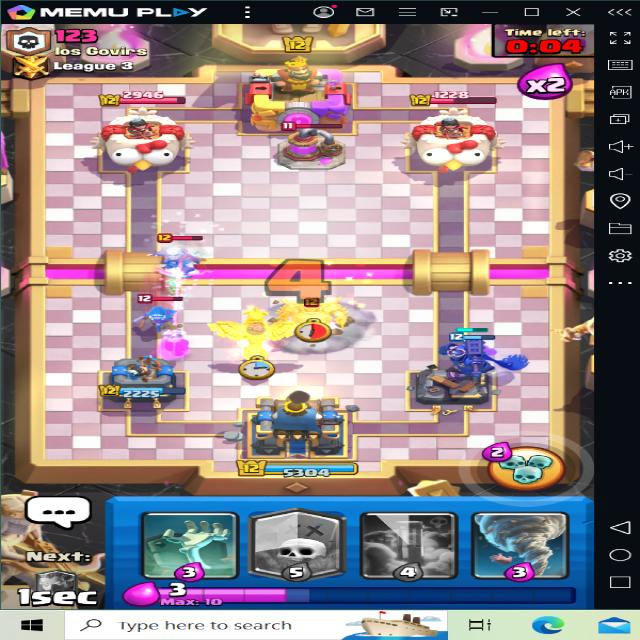bandit: (122, 289, 192, 332)
elixir-collector: (281, 121, 343, 170)
magic-archer: (158, 232, 212, 282)
pekka: (274, 291, 366, 343)
